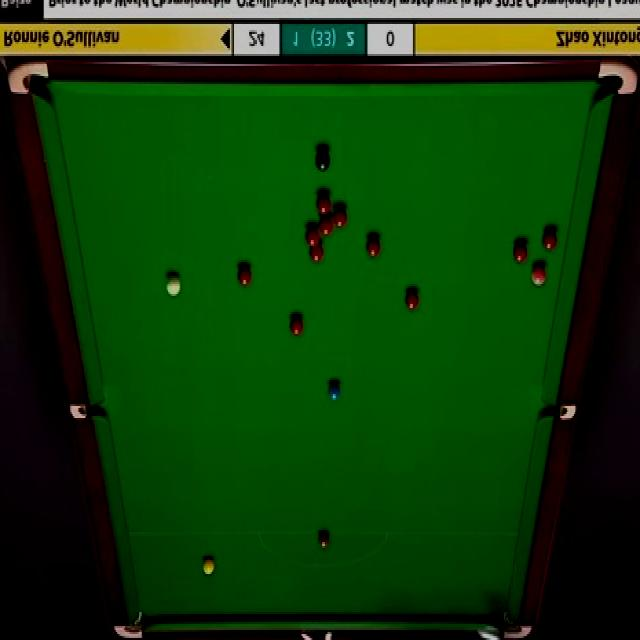black-ball: (316, 148, 331, 173)
blue-ball: (329, 381, 341, 404)
brown-ball: (317, 531, 331, 549)
pink-ball: (530, 265, 547, 287)
red-ball: (366, 232, 383, 260), (542, 228, 560, 252), (288, 314, 306, 335), (512, 240, 527, 265), (333, 206, 348, 230), (405, 288, 419, 312), (316, 192, 330, 215), (237, 266, 251, 289), (319, 213, 335, 233), (306, 222, 319, 246), (309, 241, 323, 262)
white-ball: (166, 276, 182, 296)
yellow-ball: (202, 554, 215, 576)
